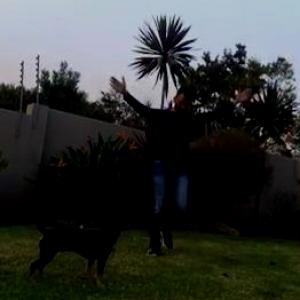takeoff: (109, 76, 254, 242)
